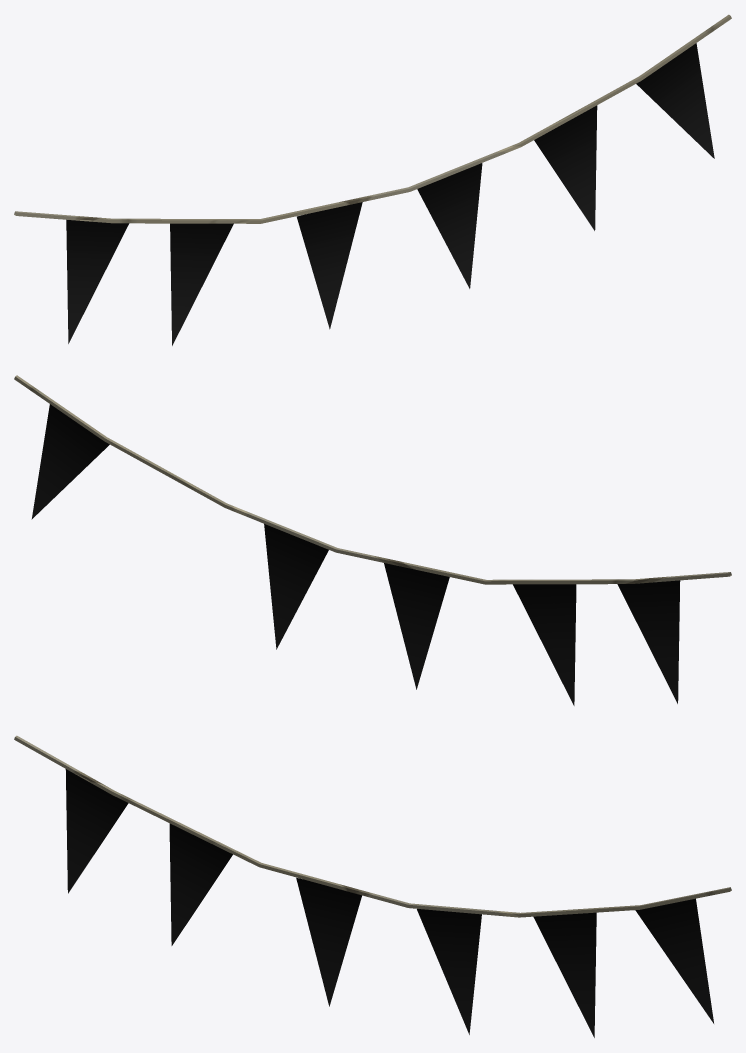
File: Flags.FBX
The picture shows the model from 3 angles, top to bottom: view 1: azimuth 30°, elevation 25°; view 2: azimuth 150°, elevation 25°; view 3: azimuth 330°, elevation 25°; orthographic projection.
Parts seen in each view (by area): view 1: Flags; view 2: Flags; view 3: Flags.
Part boxes in pixels (x1,y1,x2,y2): Flags: [14, 14, 731, 345]; Flags: [14, 375, 731, 705]; Flags: [14, 735, 731, 1037].
Size of the model in its own units: 3.21 by 0.9284 by 0.0141.
